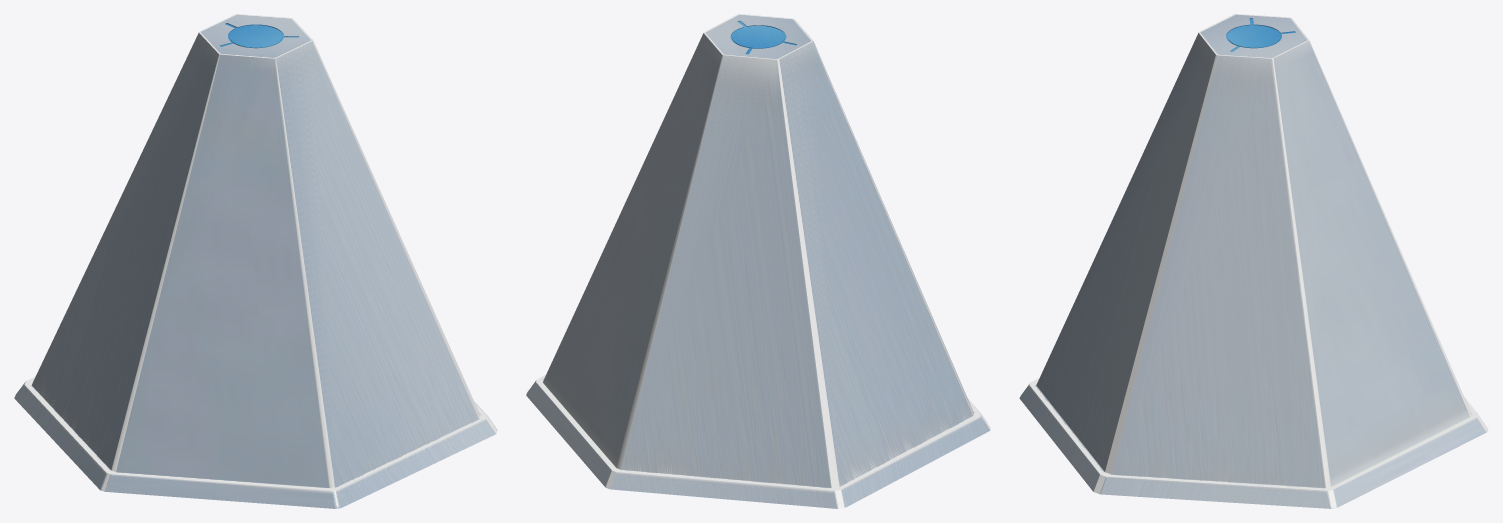
The picture shows the model from 3 angles, left to right: view 1: azimuth 30°, elevation 25°; view 2: azimuth 150°, elevation 25°; view 3: azimuth 270°, elevation 25°; orthographic projection.
Parts seen in each view (by area): view 1: base4_hole; view 2: base4_hole; view 3: base4_hole.
Boxes of the visible parts, left/top/right/bottom form: base4_hole: left=14, top=14, right=497, bottom=508; base4_hole: left=526, top=14, right=990, bottom=508; base4_hole: left=1019, top=14, right=1488, bottom=508.
Size of the model in its own units: 2.69 by 2.49 by 2.81.
